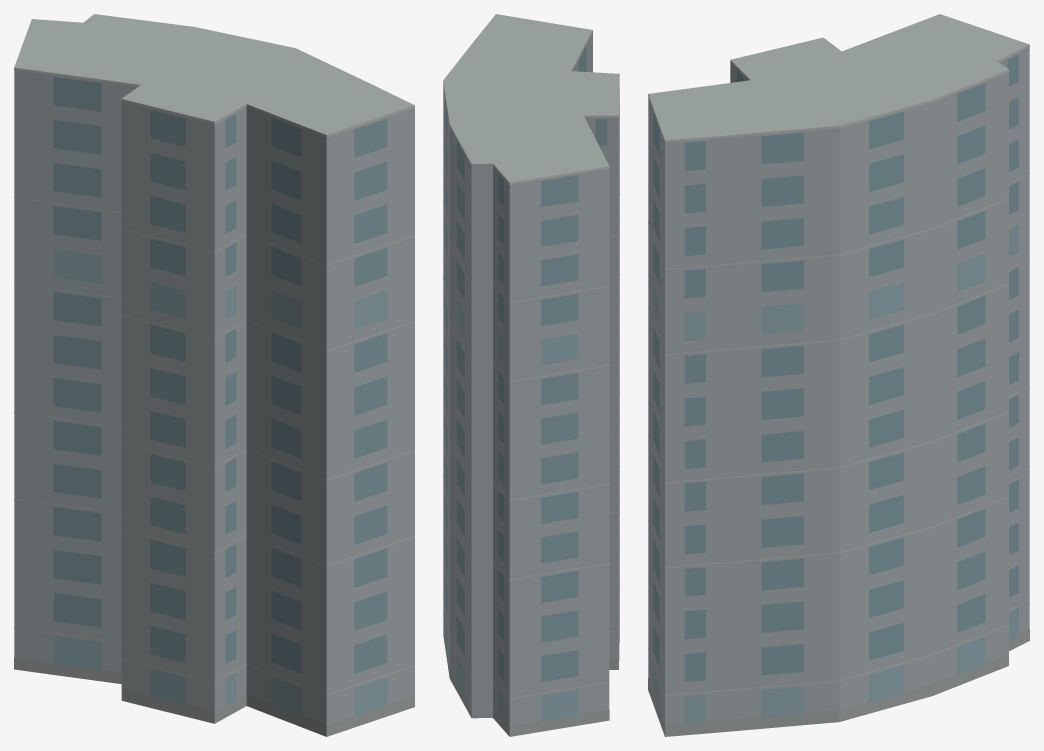
File: residential-3fbe2cf7-d4da-4221-a982-89be56858e15.glb
3 views of the same model, side by side, from view 1: azimuth 30°, elevation 25°; view 2: azimuth 150°, elevation 25°; view 3: azimuth 270°, elevation 25° (orthographic). The views are drawn at different scales.
Visible parts, largest first — view 1: residential-3fbe2cf7-d4da-4221-a982-89be56858e15.tmp; view 2: residential-3fbe2cf7-d4da-4221-a982-89be56858e15.tmp; view 3: residential-3fbe2cf7-d4da-4221-a982-89be56858e15.tmp.
Boxes of the visible parts, x1,y1,x2,y2 form: residential-3fbe2cf7-d4da-4221-a982-89be56858e15.tmp: (14,14,414,736); residential-3fbe2cf7-d4da-4221-a982-89be56858e15.tmp: (443,14,619,736); residential-3fbe2cf7-d4da-4221-a982-89be56858e15.tmp: (648,14,1029,736).
Bounding box in the file's own units: 27.35 × 60 × 34.82.
